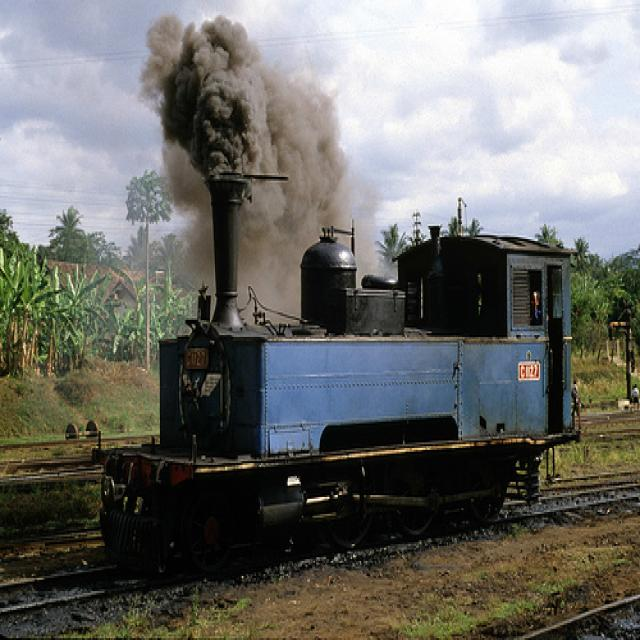train: (97, 176, 583, 585)
